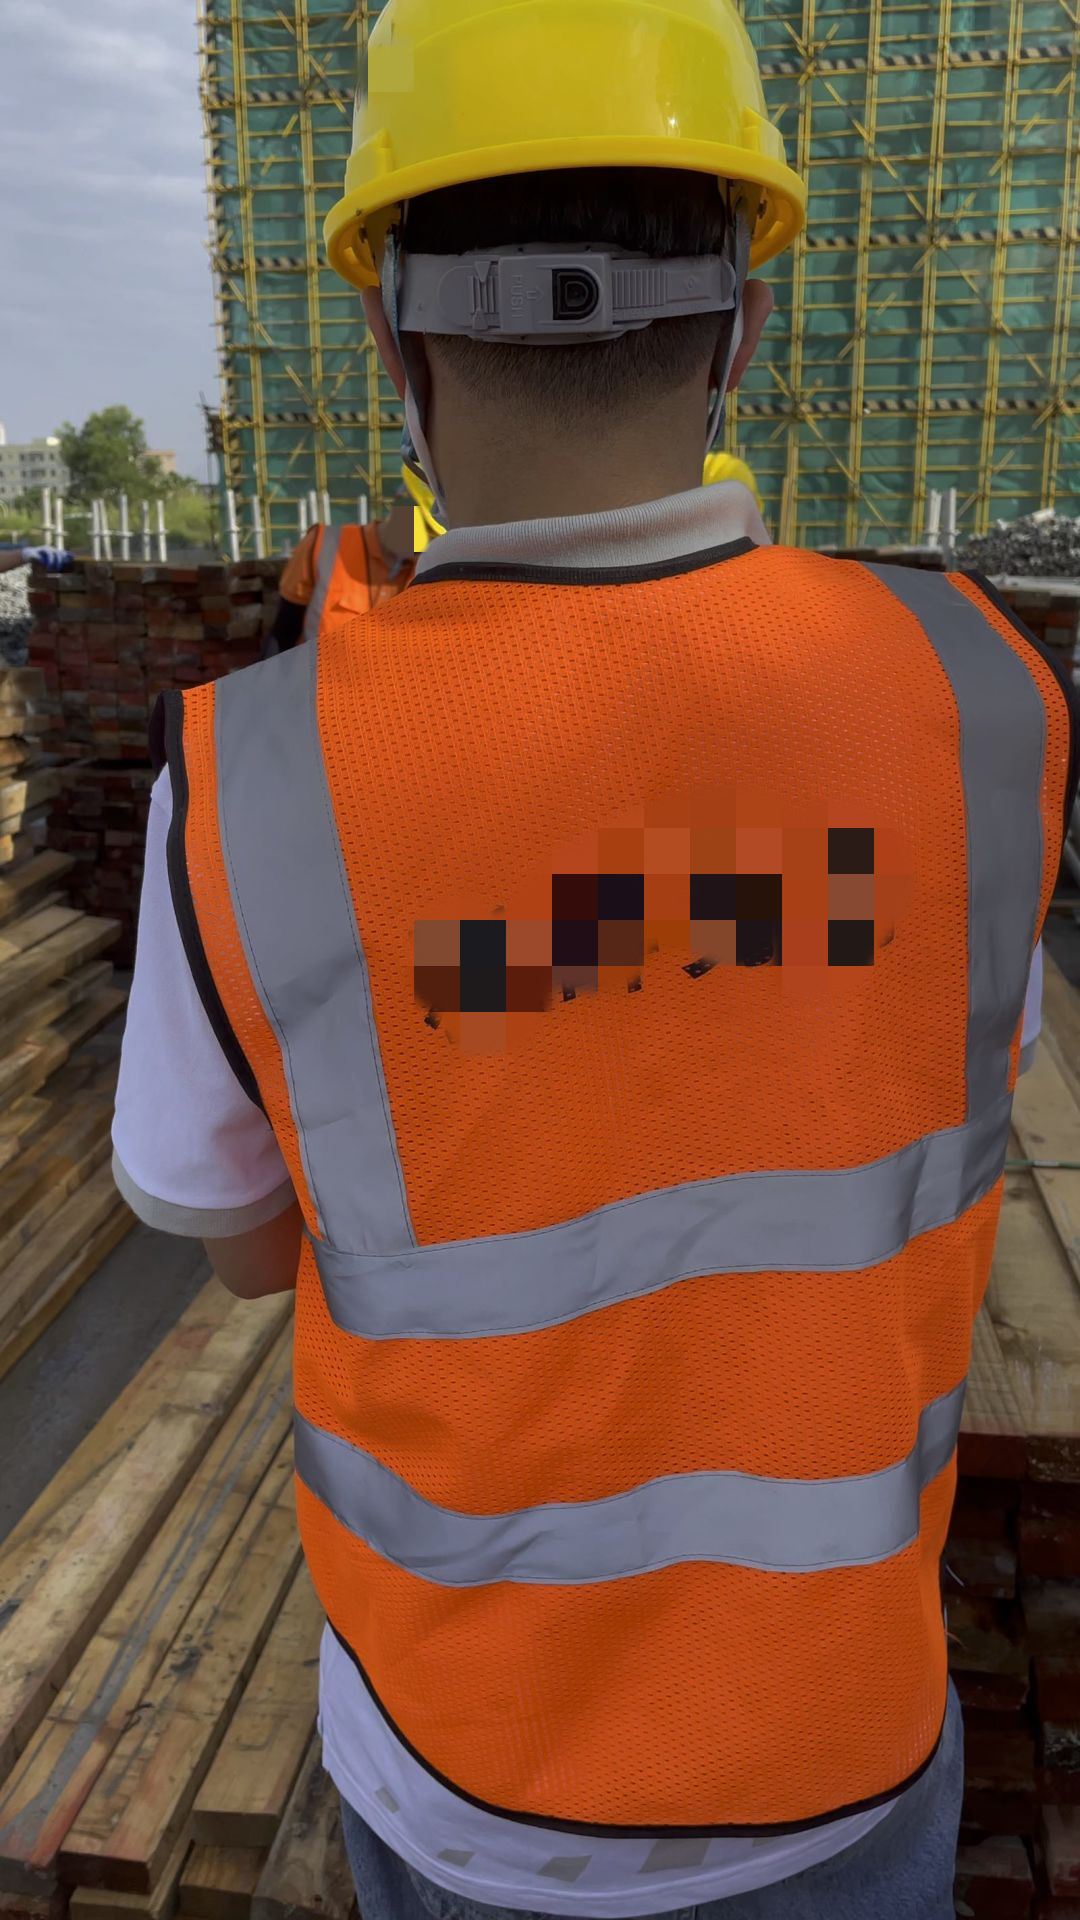helmet: (328, 2, 818, 398)
person: (125, 1, 1080, 1918)
vest: (145, 565, 1057, 1827)
wood: (24, 1284, 341, 1920), (3, 669, 168, 1344)
